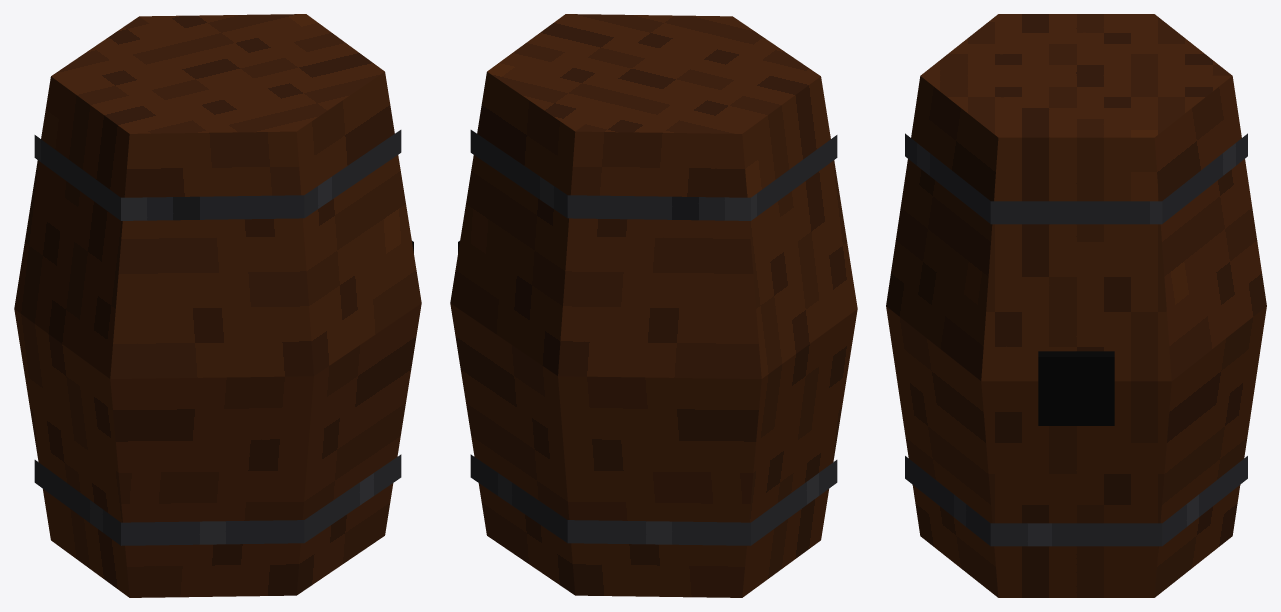
File: barril_polvora.glb
3 renders of one model, left to right at view 1: azimuth 30°, elevation 25°; view 2: azimuth 150°, elevation 25°; view 3: azimuth 270°, elevation 25°, orthographic.
Parts seen in each view (by area): view 1: barril, aros; view 2: barril, aros; view 3: barril, aros, marca.
Boxes of the visible parts, <box> form: barril: <box>14,14,421,597</box>; aros: <box>34,130,401,545</box>; barril: <box>450,14,857,597</box>; aros: <box>470,130,837,545</box>; barril: <box>886,14,1266,597</box>; aros: <box>905,133,1247,546</box>; marca: <box>1038,351,1114,425</box>.
Size of the model in its own units: 0.6 by 0.8 by 0.6.
Materials: 1 (1 with a texture image).
